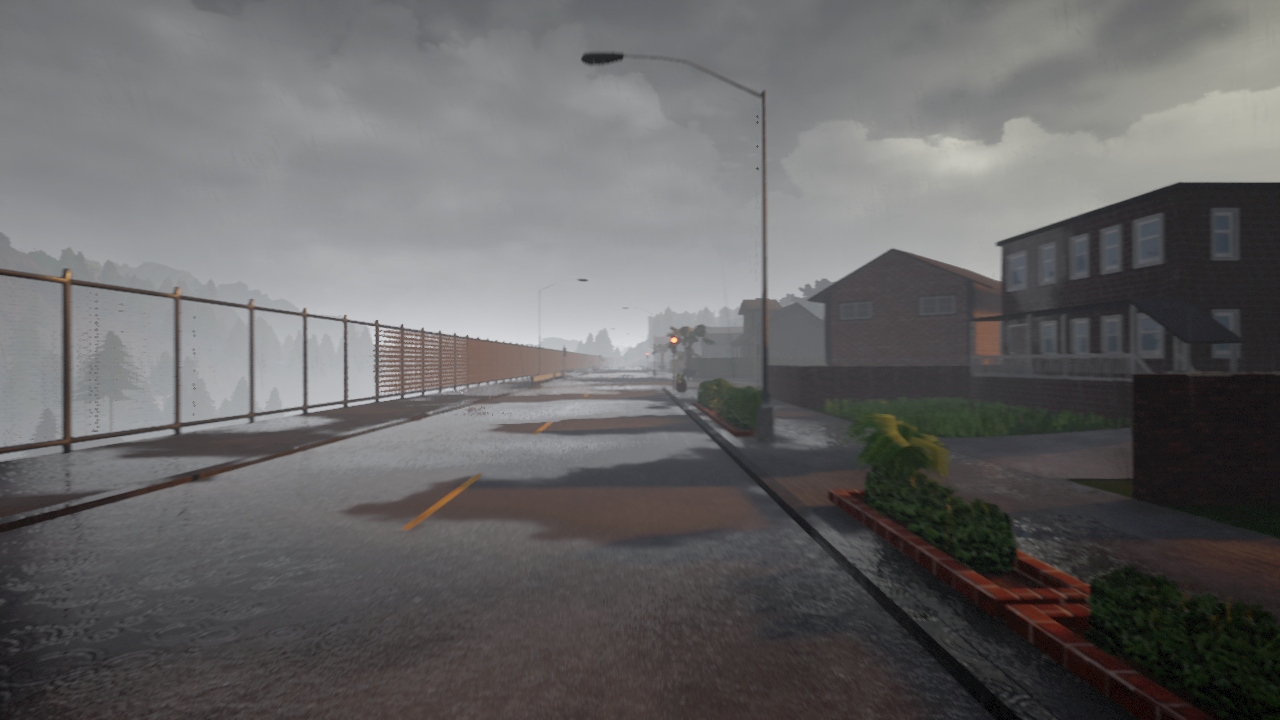red: (670, 335, 678, 353)
